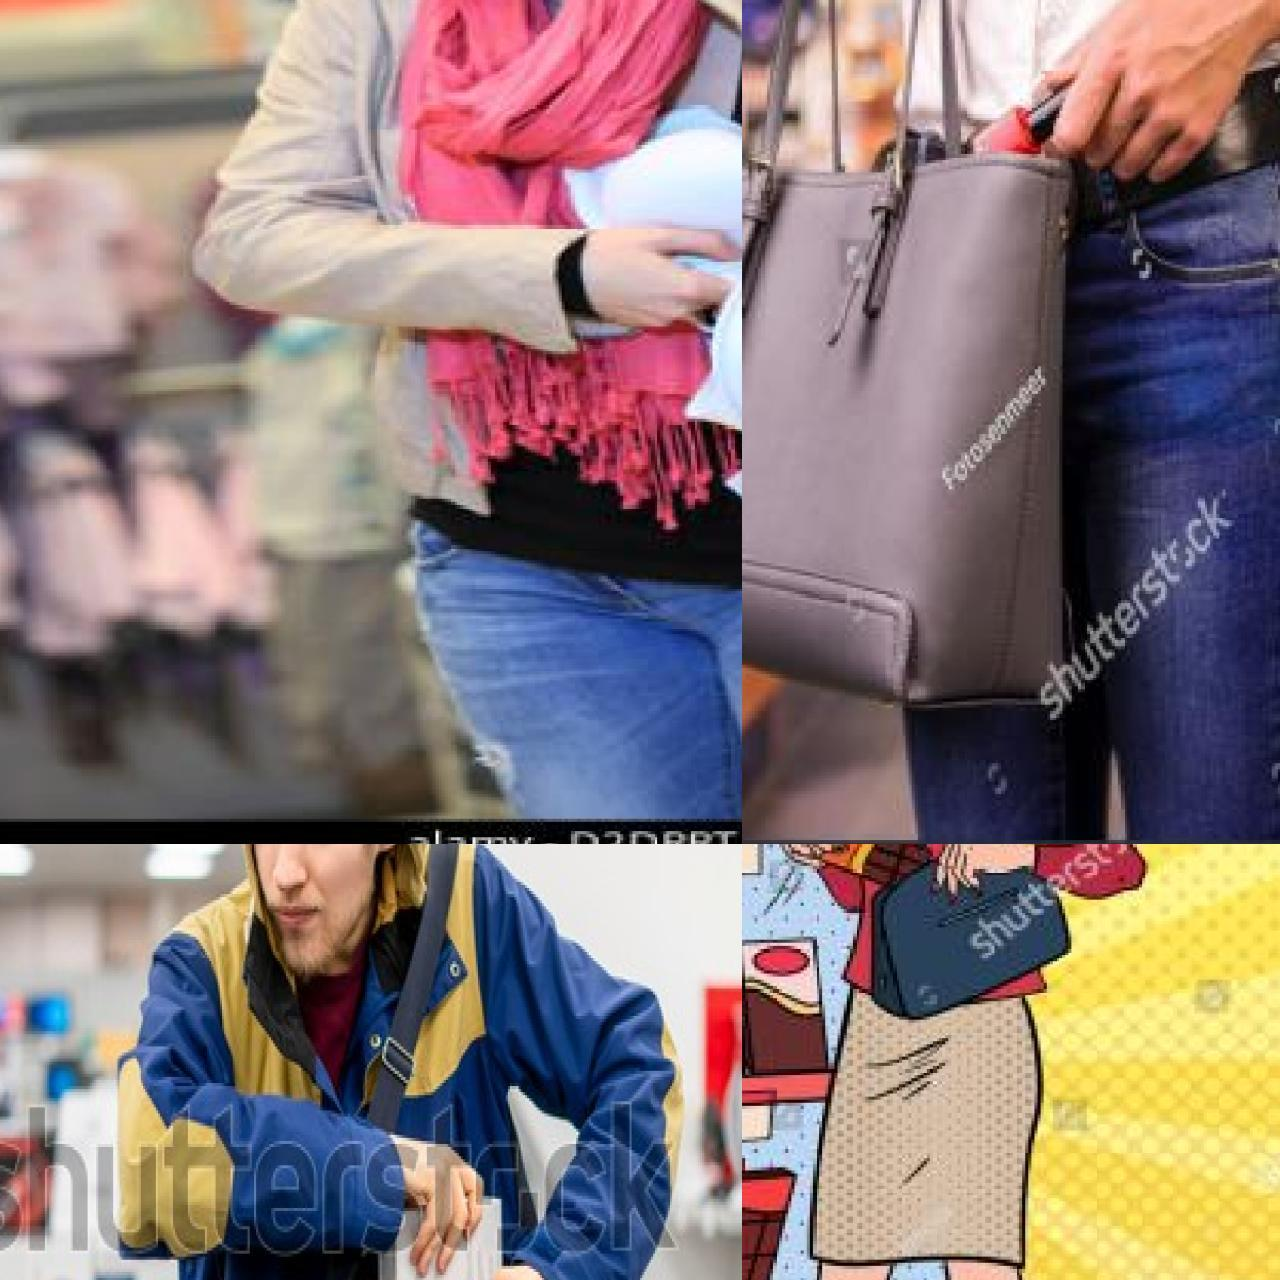Shoplifting: (54, 0, 742, 835), (742, 0, 1280, 836), (86, 844, 742, 1280), (742, 844, 1280, 1280)
